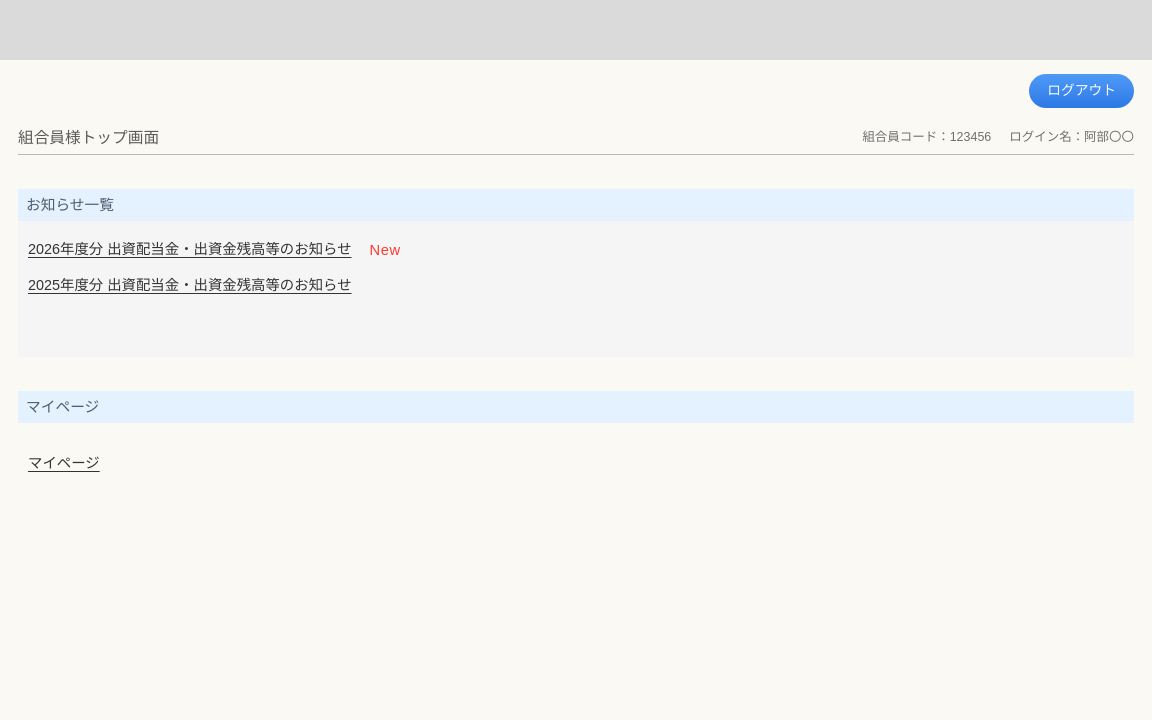
Test: DividendNoticePage › navigates from the top page to the dividend notice detail page
This screenshot has width=1152, height=720.
Click the button "2026年度分 出資配当金・出資金残高等のお知らせ".
click(190, 250)  # box [28,239,352,260]
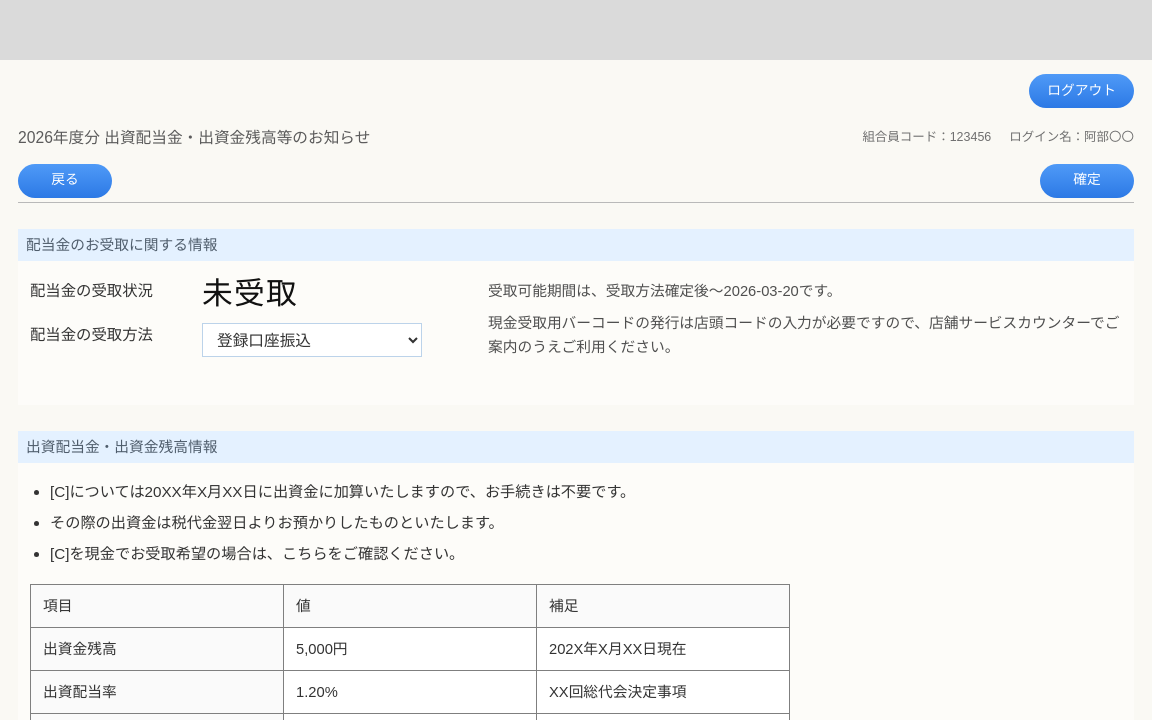
Result: the dropdown labelled "配当金の受取方法" is shown at [202,323,422,357]
Result: the text "配当金のお受取に関する情報" is shown at [18,228,1134,261]
